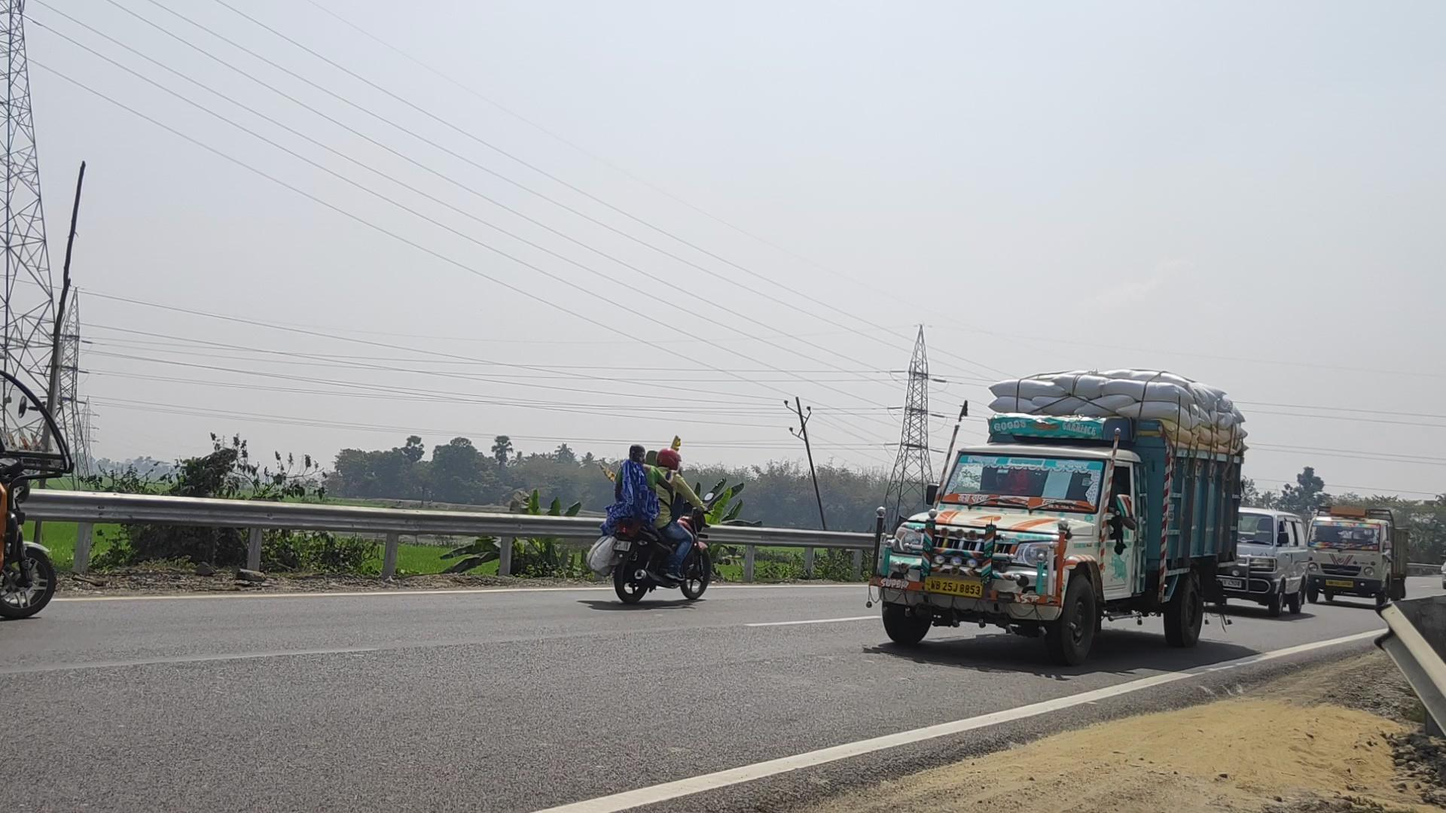bike: (587, 445, 715, 603)
van: (866, 370, 1249, 665), (1304, 507, 1407, 605), (1217, 507, 1308, 617)
